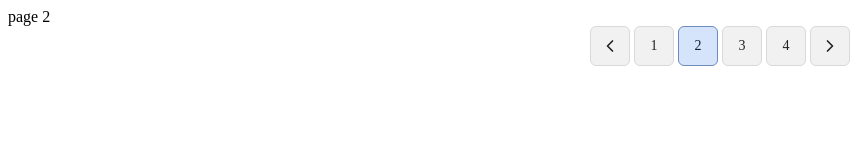
it: Pagination › moves with an owner that stores what it reports
Step 1. Click the button "4" → (786, 46), box 766,26 -> 806,66
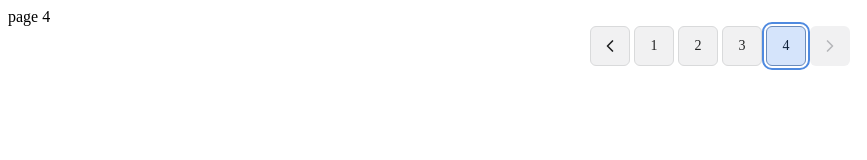
Expected: the button named "Next page" is disabled, 810,26 -> 850,66
Expected: the text "page 4" is shown, 8,8 -> 50,25
